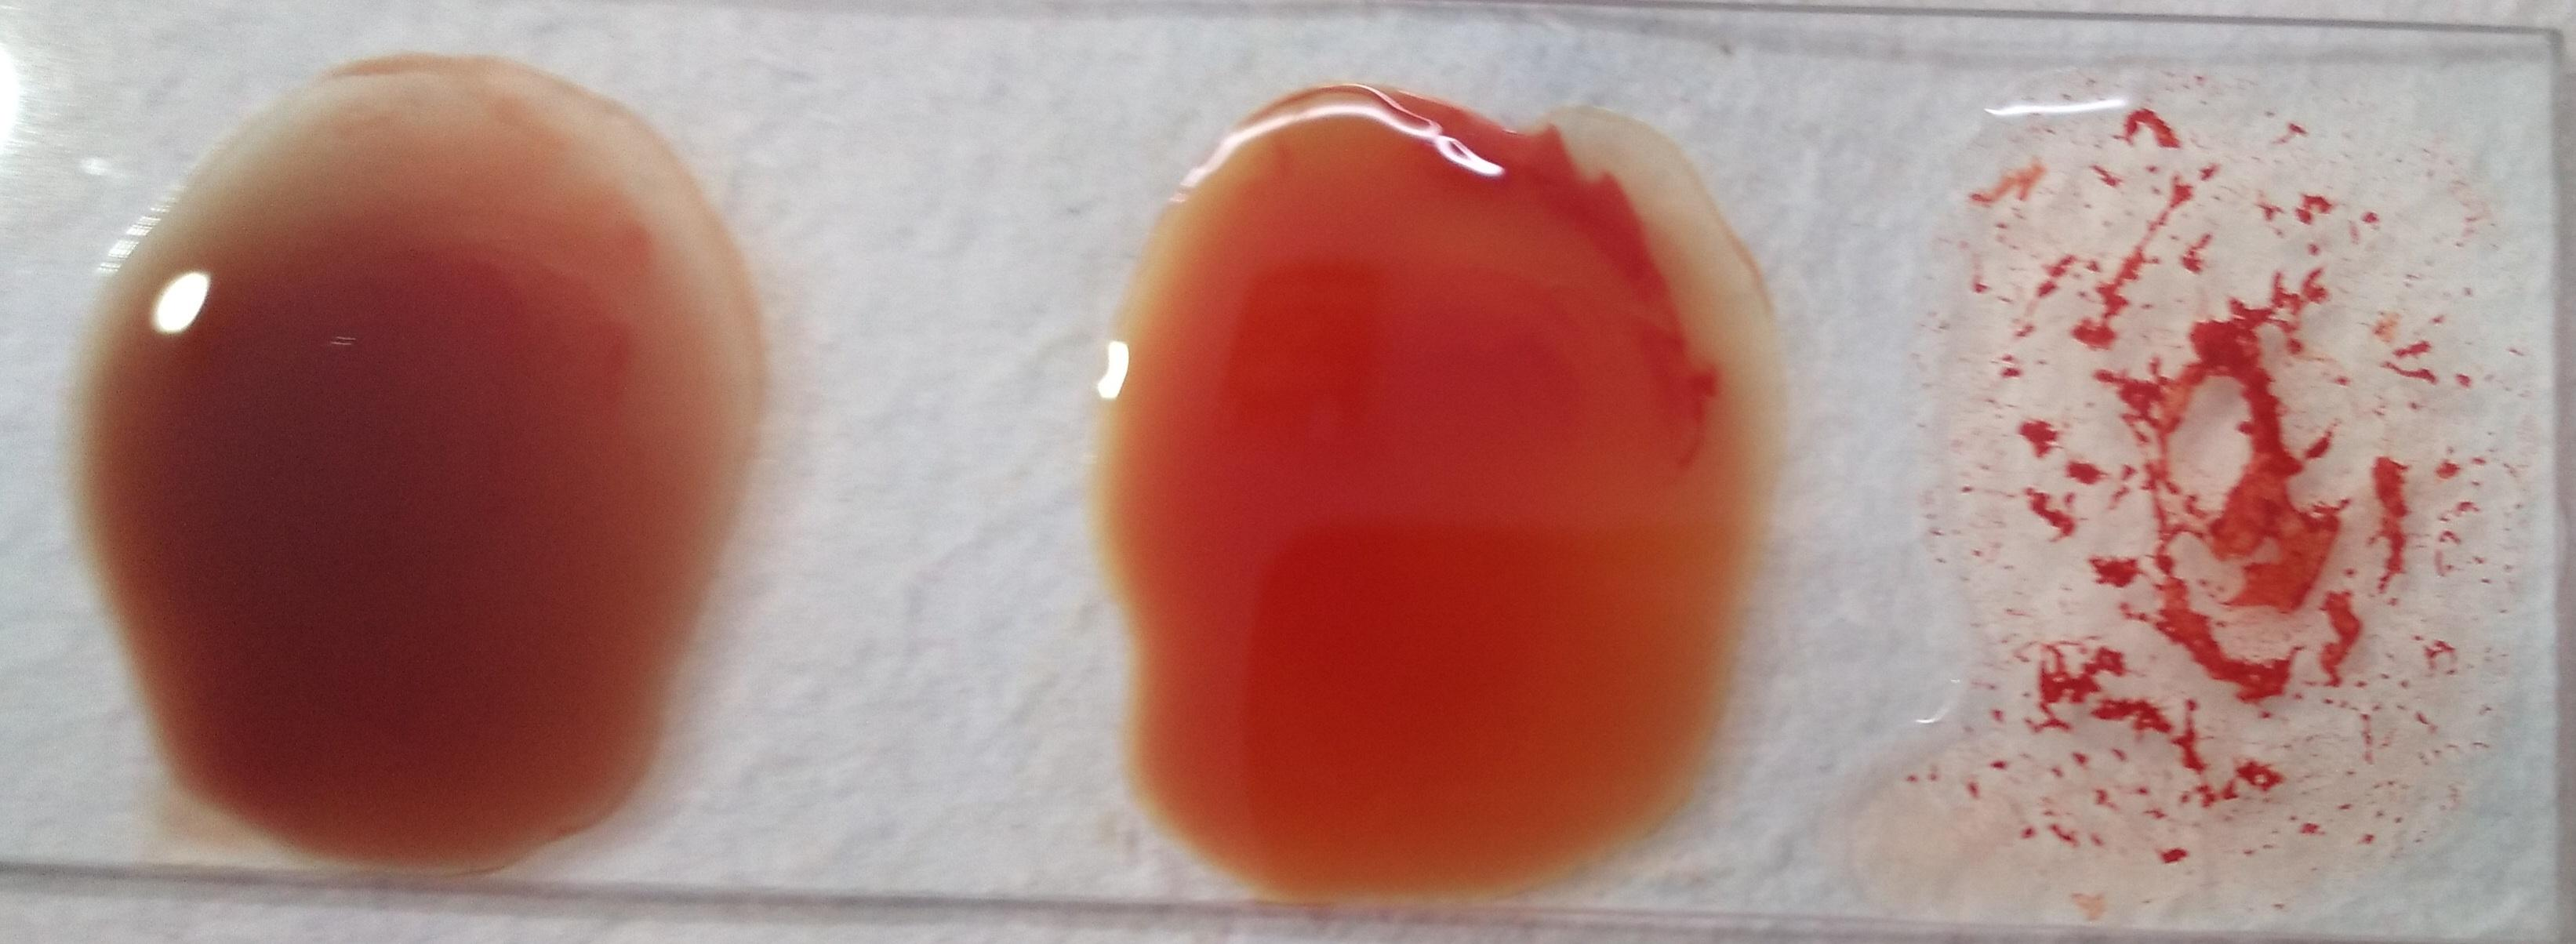D: (1914, 76, 2515, 893)
